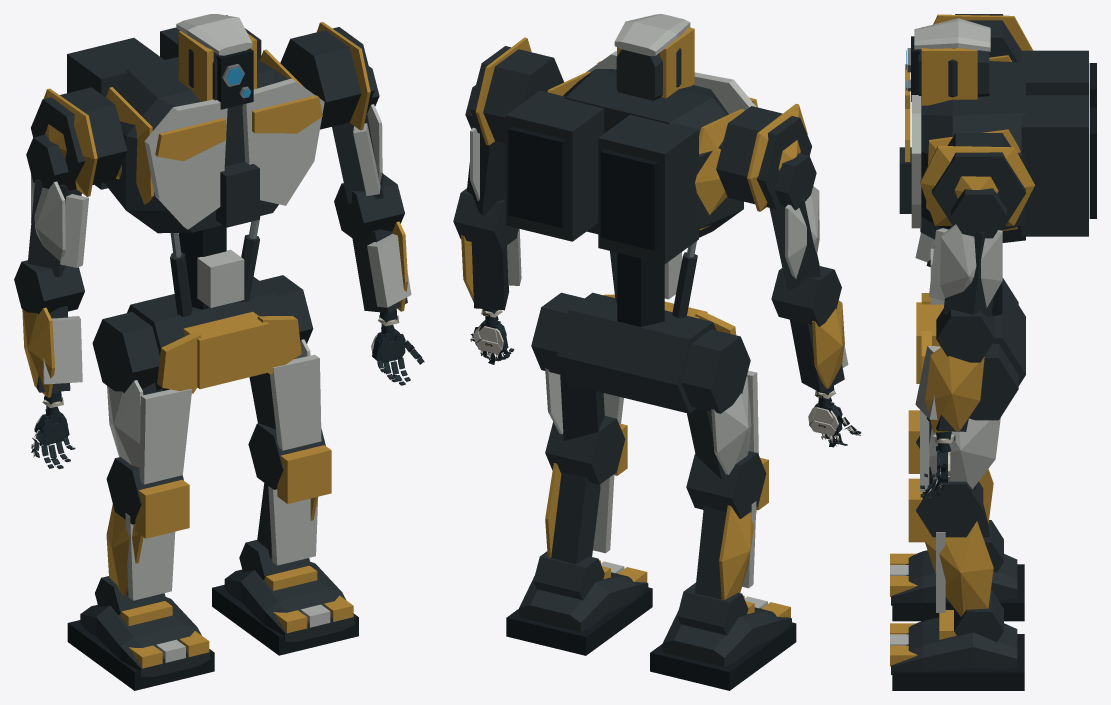
File: c08_aurel_d0_lod2.meshopt.glb
The picture shows the model from 3 angles, left to right: view 1: azimuth 30°, elevation 25°; view 2: azimuth 150°, elevation 25°; view 3: azimuth 270°, elevation 25°; orthographic projection.
Parts seen in each view (by area): view 1: C08_SKIN; view 2: C08_SKIN; view 3: C08_SKIN.
Boxes of the visible parts, left/top/right/bottom form: C08_SKIN: left=14, top=14, right=424, bottom=690; C08_SKIN: left=453, top=14, right=861, bottom=690; C08_SKIN: left=890, top=14, right=1096, bottom=690.
Bounding box in the file's own units: 1.52 × 2.28 × 0.7045.
